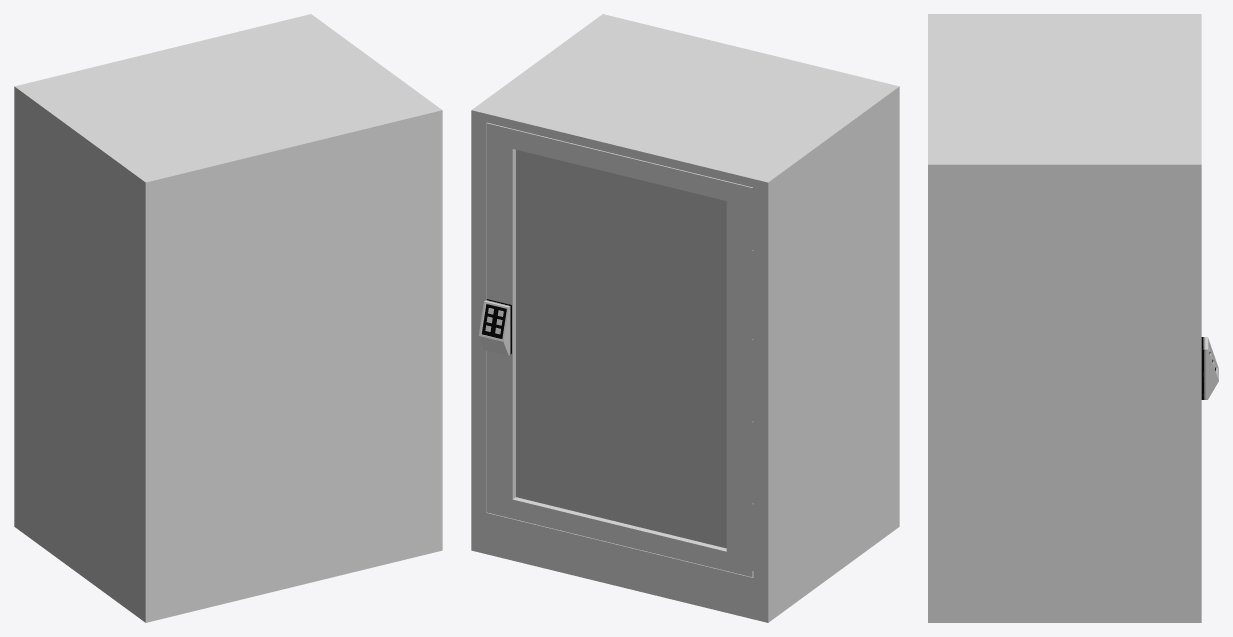
Rendered from Lemari Solid.fbx.
3 renders of one model, left to right at view 1: azimuth 30°, elevation 25°; view 2: azimuth 150°, elevation 25°; view 3: azimuth 270°, elevation 25°, orthographic. The views are drawn at different scales.
Parts seen in each view (by area): view 1: Cube.003; view 2: Cube.003; view 3: Cube.003.
Part boxes in pixels (<box>): Cube.003: <box>14,14,442,622</box>; Cube.003: <box>471,14,899,622</box>; Cube.003: <box>928,14,1218,622</box>.
Size of the model in its own units: 272 by 385 by 222.
Materials: 2 (2 with a texture image).
